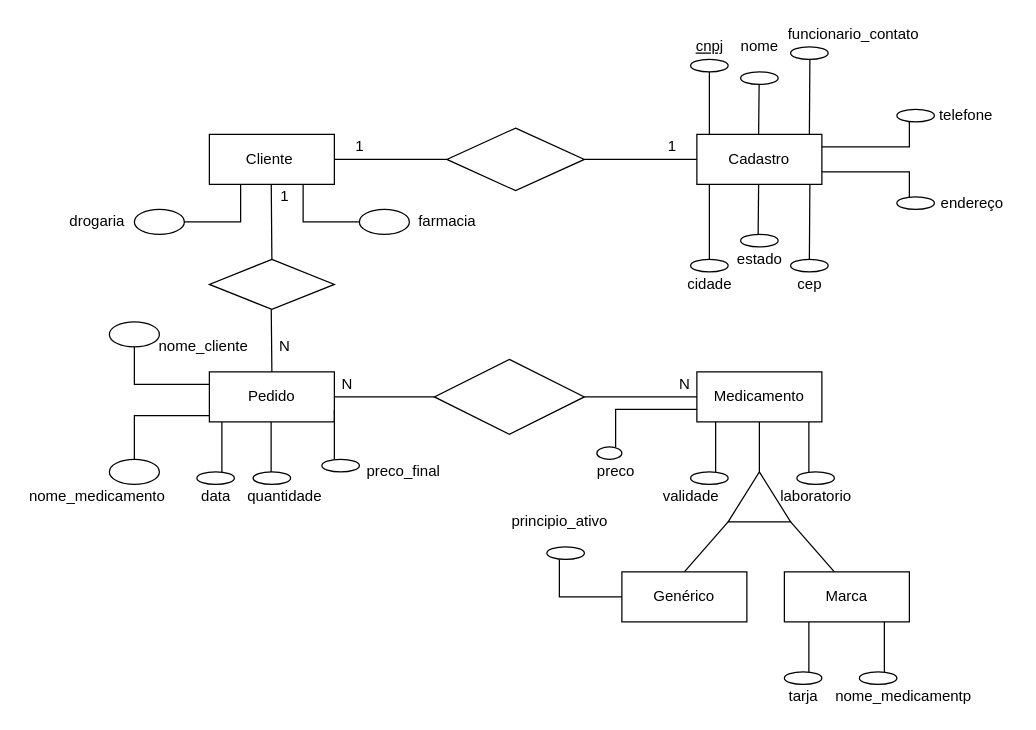
This 1036x730 diagram has some shape labels left out. Each missing label, with the box of its shape:
Contém: (433, 358, 584, 434)
Possui: (446, 127, 584, 191)
Solicita: (208, 258, 334, 309)
